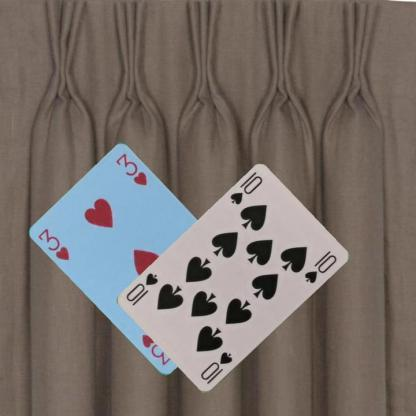10s: (198, 349, 234, 386), (227, 173, 264, 207)
3h: (35, 226, 71, 262)
